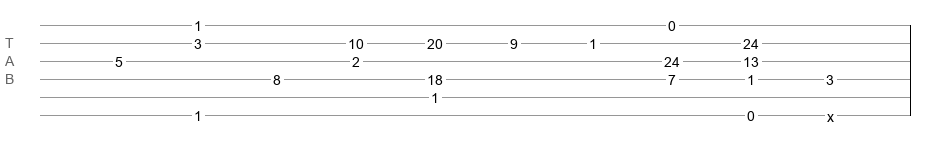0: (668, 18, 676, 28), (747, 108, 755, 118)
1: (194, 108, 202, 118), (194, 18, 202, 28), (431, 90, 439, 100), (589, 36, 597, 46), (747, 72, 755, 82)
10: (348, 36, 364, 46)
13: (743, 54, 759, 64)
18: (427, 72, 443, 82)
2: (352, 54, 360, 64)
20: (427, 36, 443, 46)
24: (664, 54, 680, 64), (743, 36, 759, 46)
3: (194, 36, 202, 46), (826, 72, 834, 82)
5: (115, 54, 123, 64)
7: (668, 72, 676, 82)
8: (273, 72, 281, 82)
9: (510, 36, 518, 46)
x: (827, 109, 834, 117)
